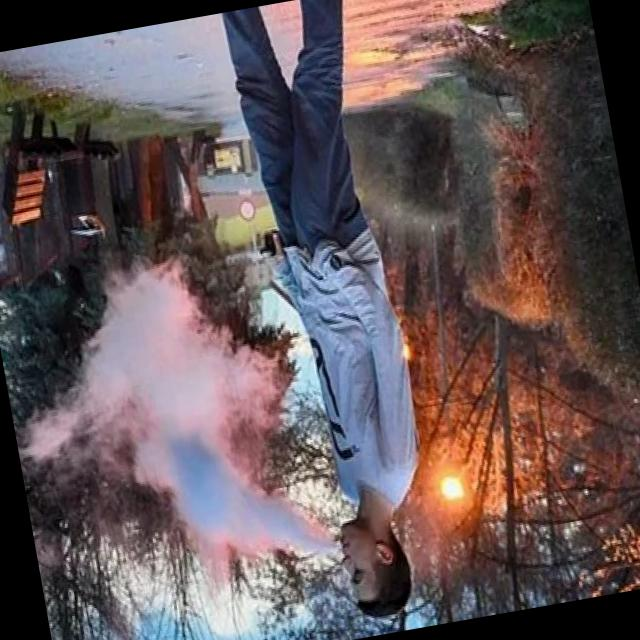smoke: (249, 224, 294, 268)
